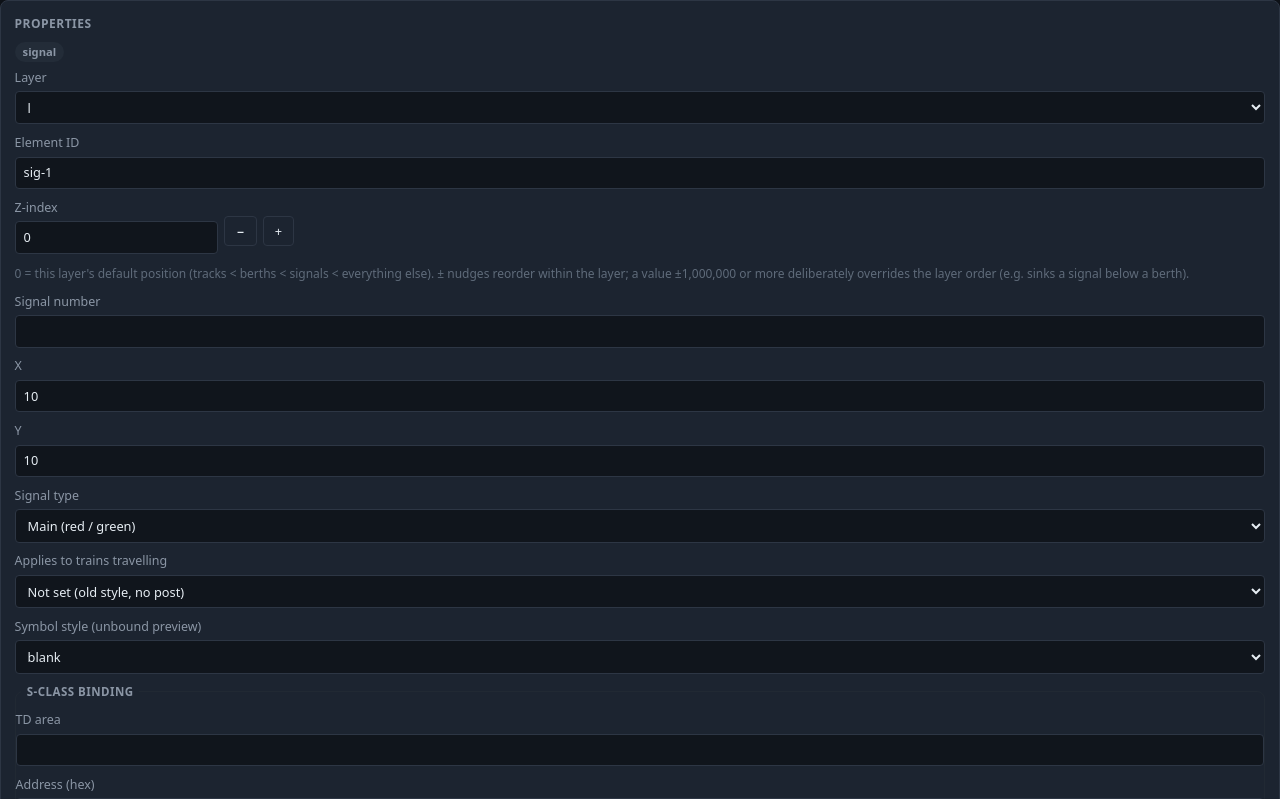
Test: PropertyPanel S-Class signal binding (Milestone 36c) › won't bind until the address is hex and the bit is 0-7
The width and height of the screenshot is (1280, 799).
In the field labelled "TD area": (640, 750) [16,734,1264,766], type "M9"
(page scrolled)
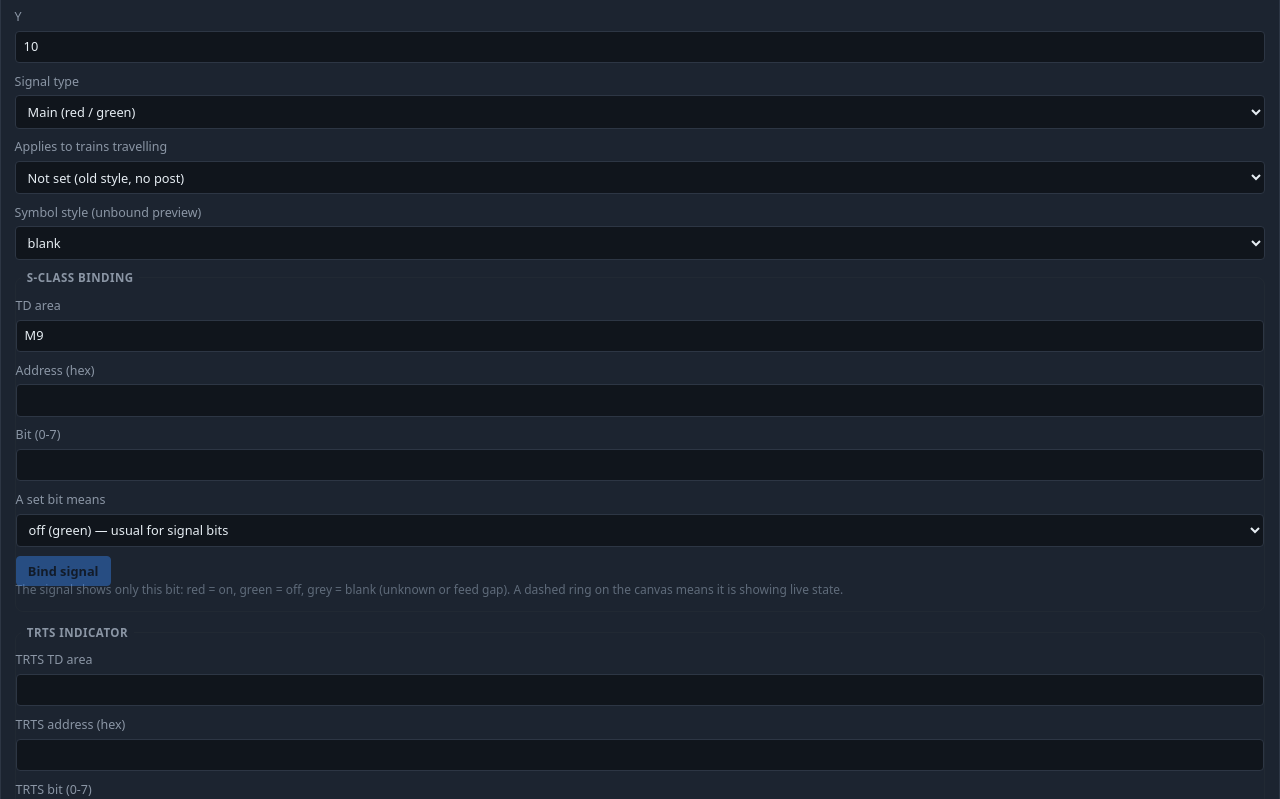
In the field labelled "Address (hex)": (640, 400) [16,384,1264,417], type "0G"
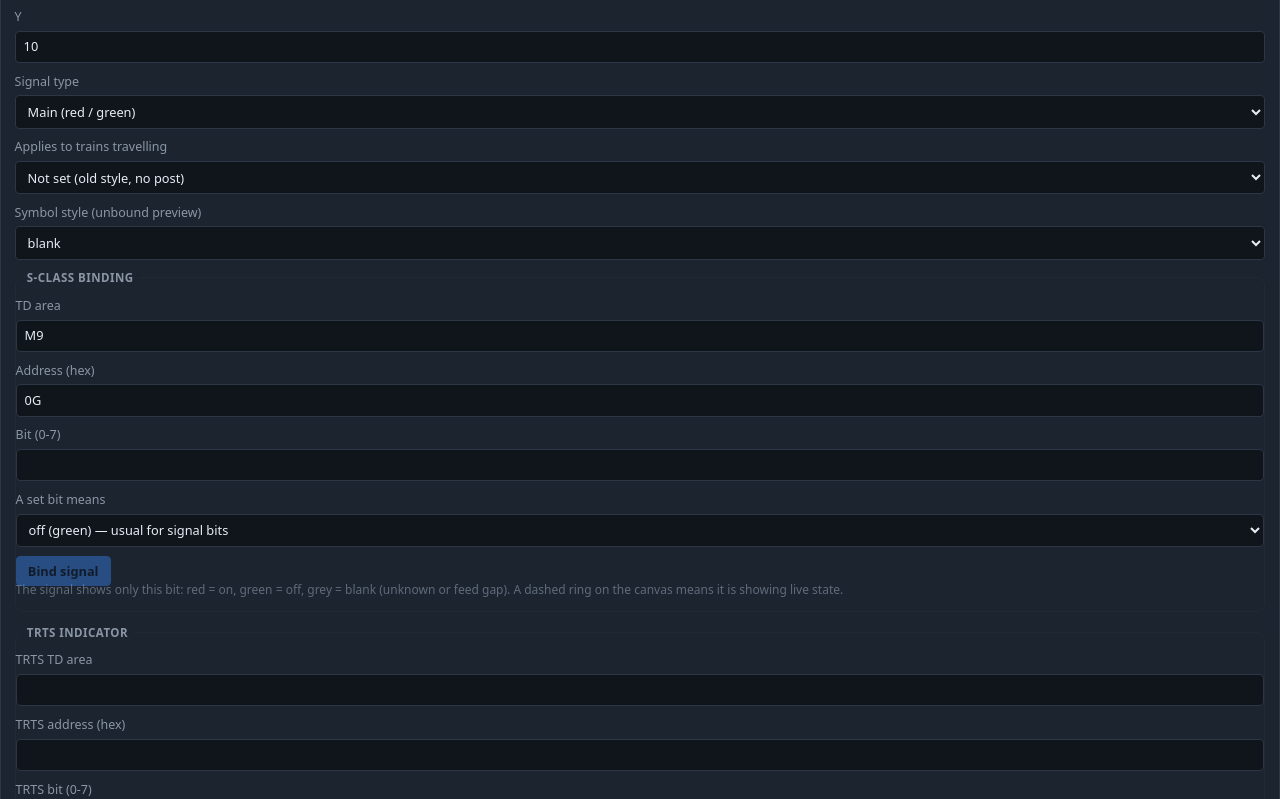
In the field labelled "Bit (0-7)": (640, 465) [16,449,1264,481], type "2"
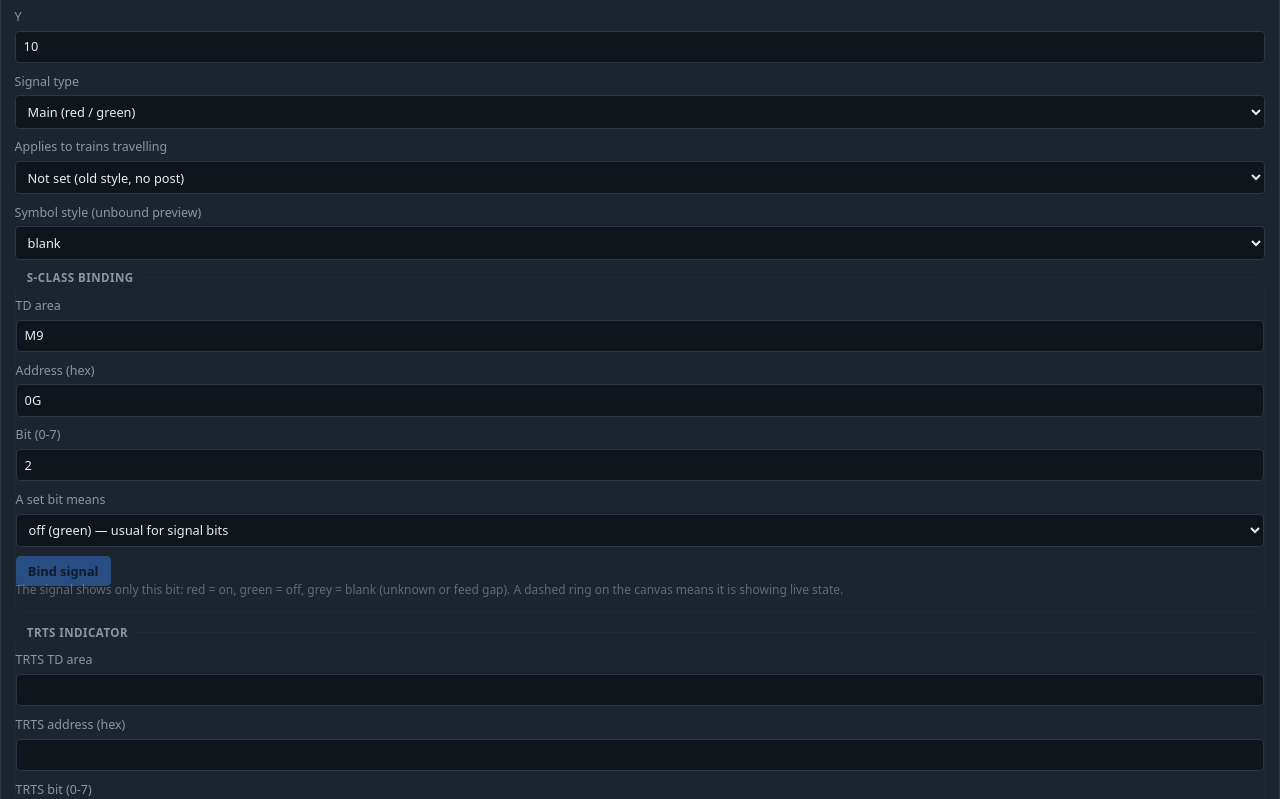
Expected: the button "Bind signal" is disabled, [16,556,111,586]
Replace the text in the field labelled "Address (hex)" with "a": (640, 400) [16,384,1264,417]
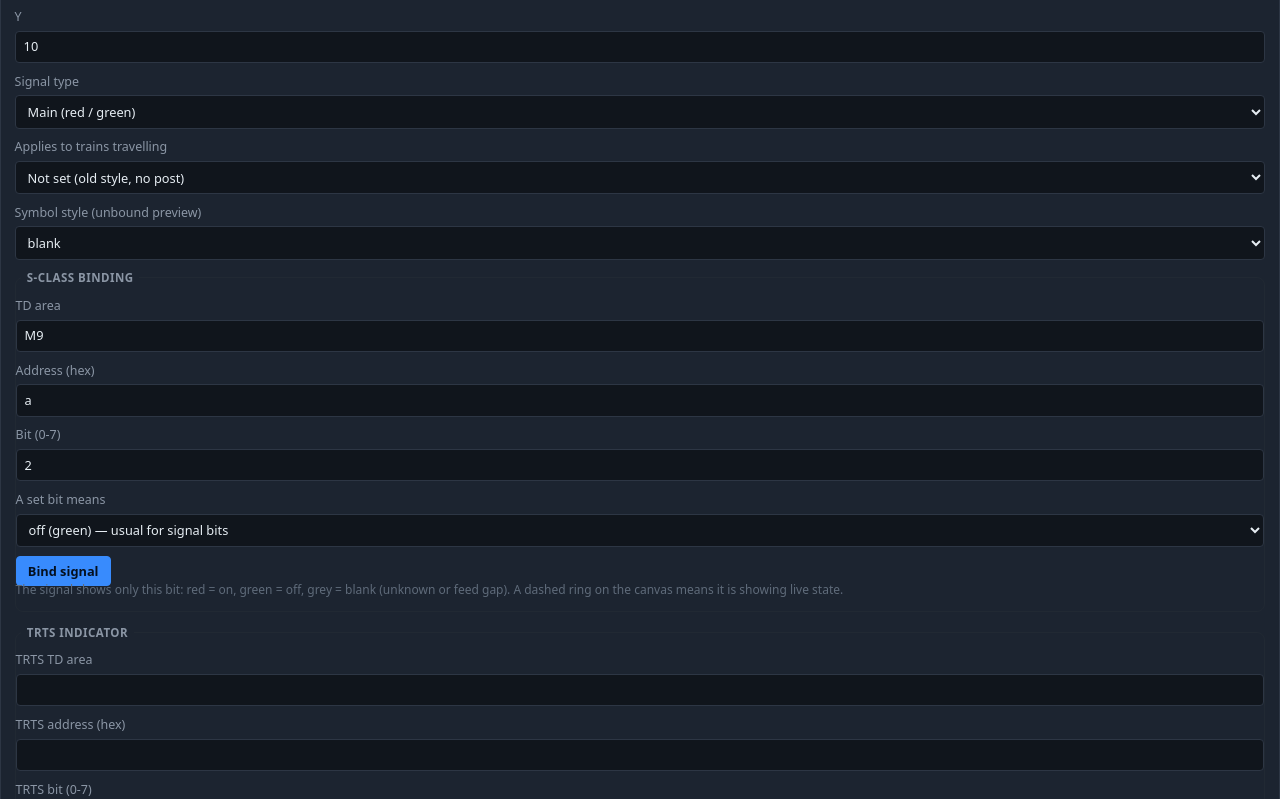
Replace the text in the field labelled "Bit (0-7)" with "8": (640, 465) [16,449,1264,481]
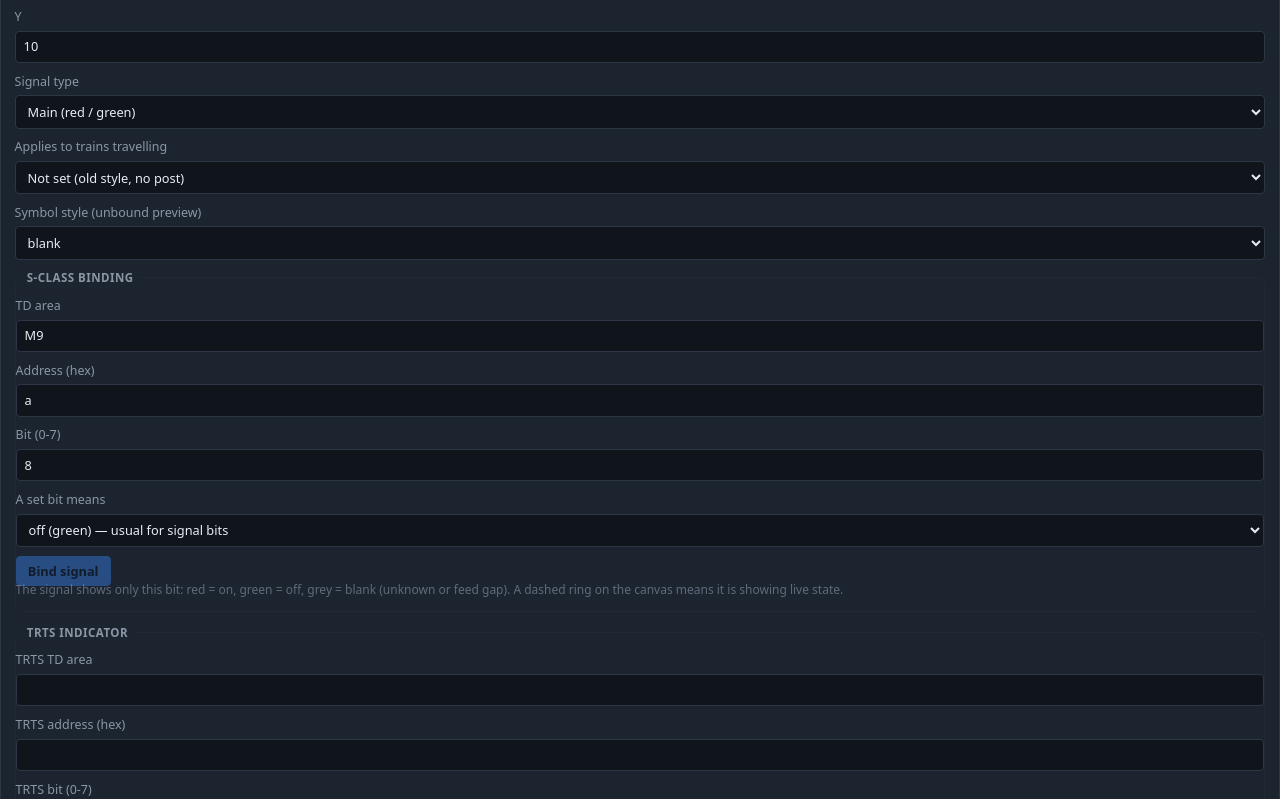
Now the button "Bind signal" is disabled, box [16,556,111,586]
Replace the text in the field labelled "Bit (0-7)" with "7": (640, 465) [16,449,1264,481]
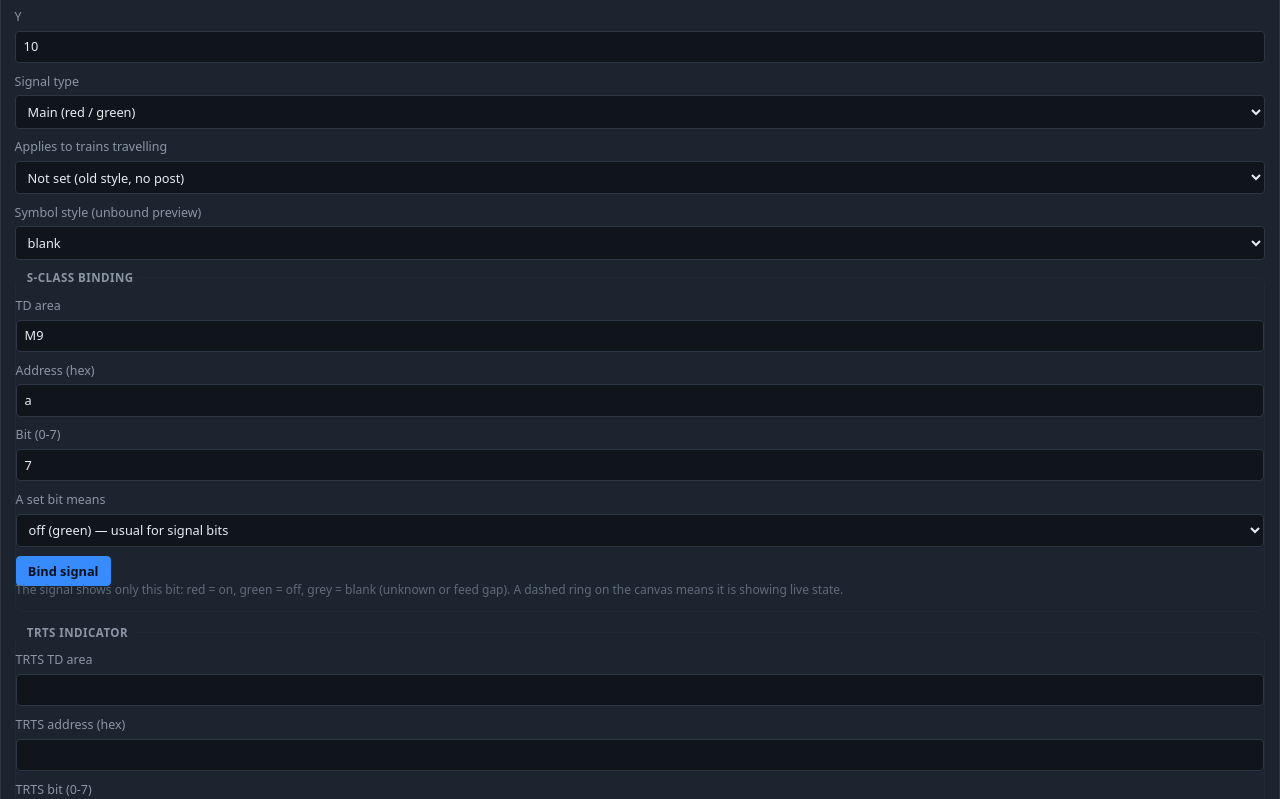
Now the button "Bind signal" is enabled, box [16,556,111,586]
